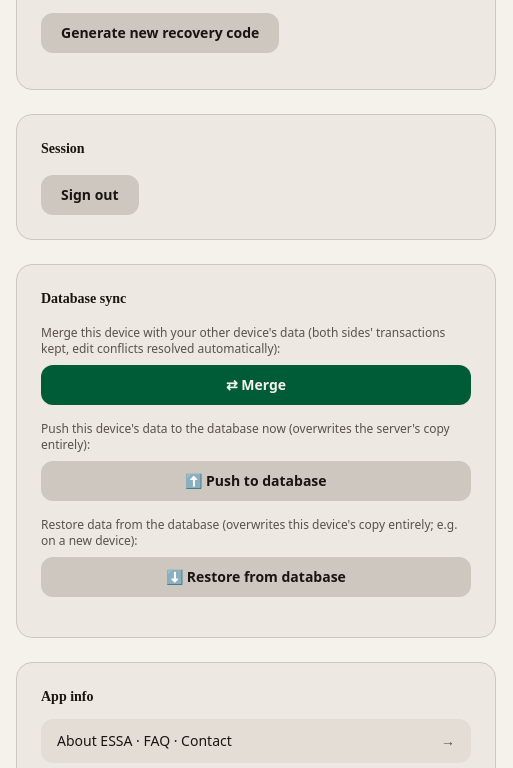
Scenario: a store that fails records nothing and leaves the previous record as it was
(page scrolled)
Step 1. Click the button "⇄ Merge" → (256, 384), box [41,364,471,404]
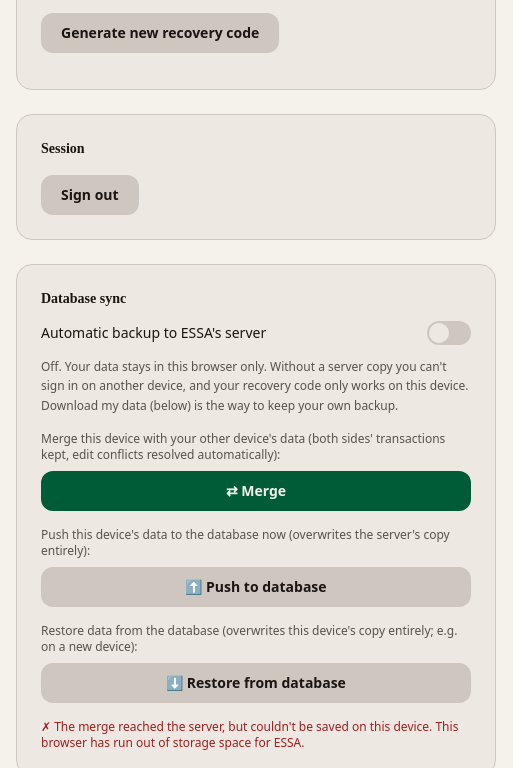
Result: the text "The merge reached the server, but couldn't be saved on this device." is shown at [41,718,458,751]
